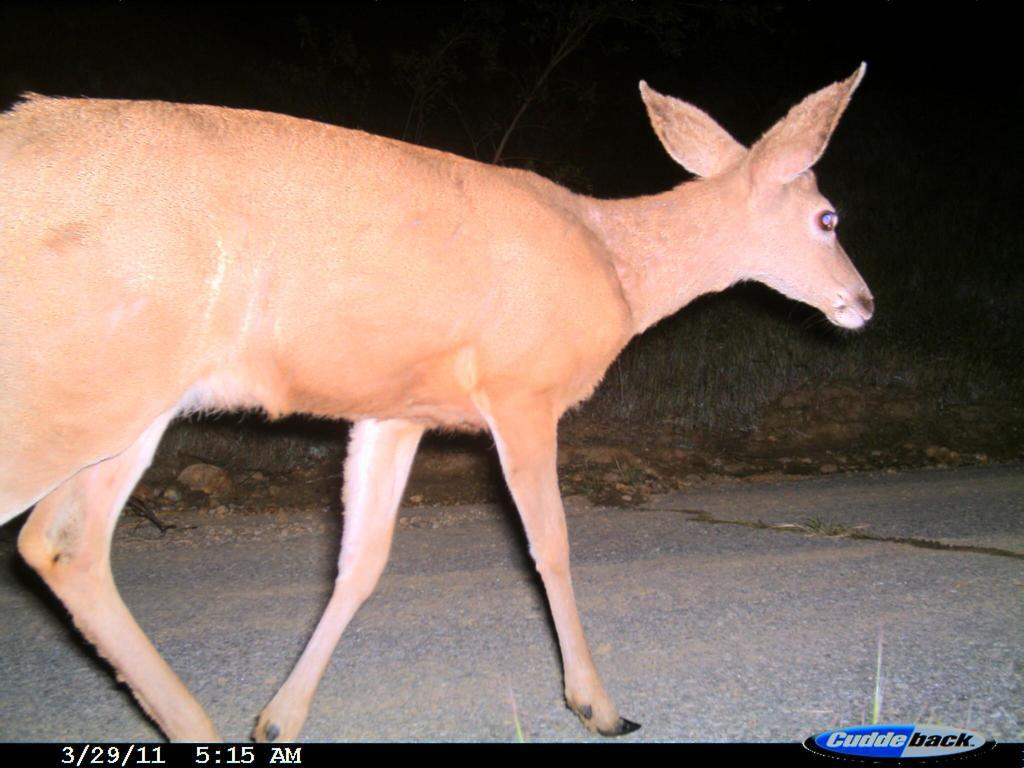deer: (4, 59, 885, 745)
